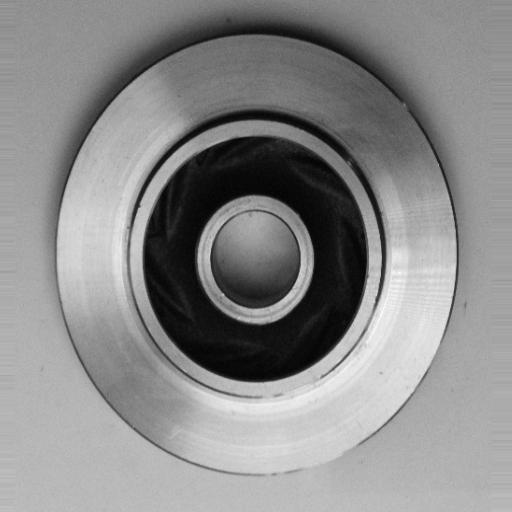scratch: (273, 429, 369, 498)
unpolished_casting: (53, 31, 460, 478)
